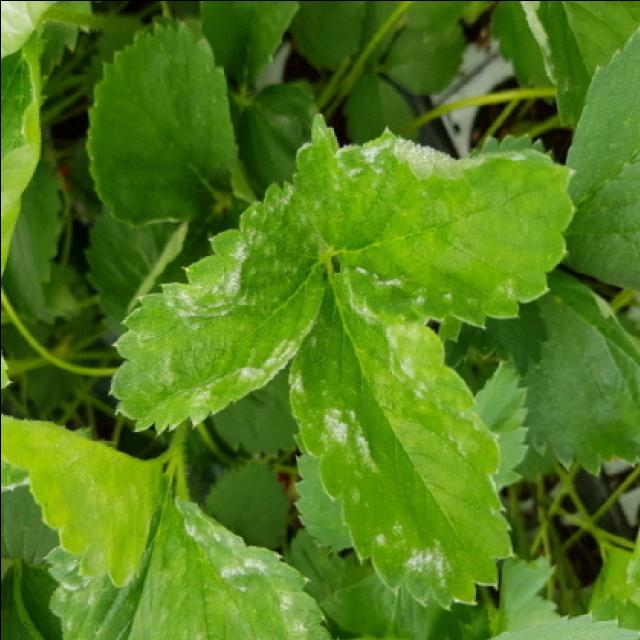Powdery Mildew Leaf: (284, 272, 515, 610), (289, 111, 579, 330), (107, 180, 327, 437), (42, 471, 333, 640)
